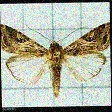Spodoptera litura: (1, 22, 111, 98)
